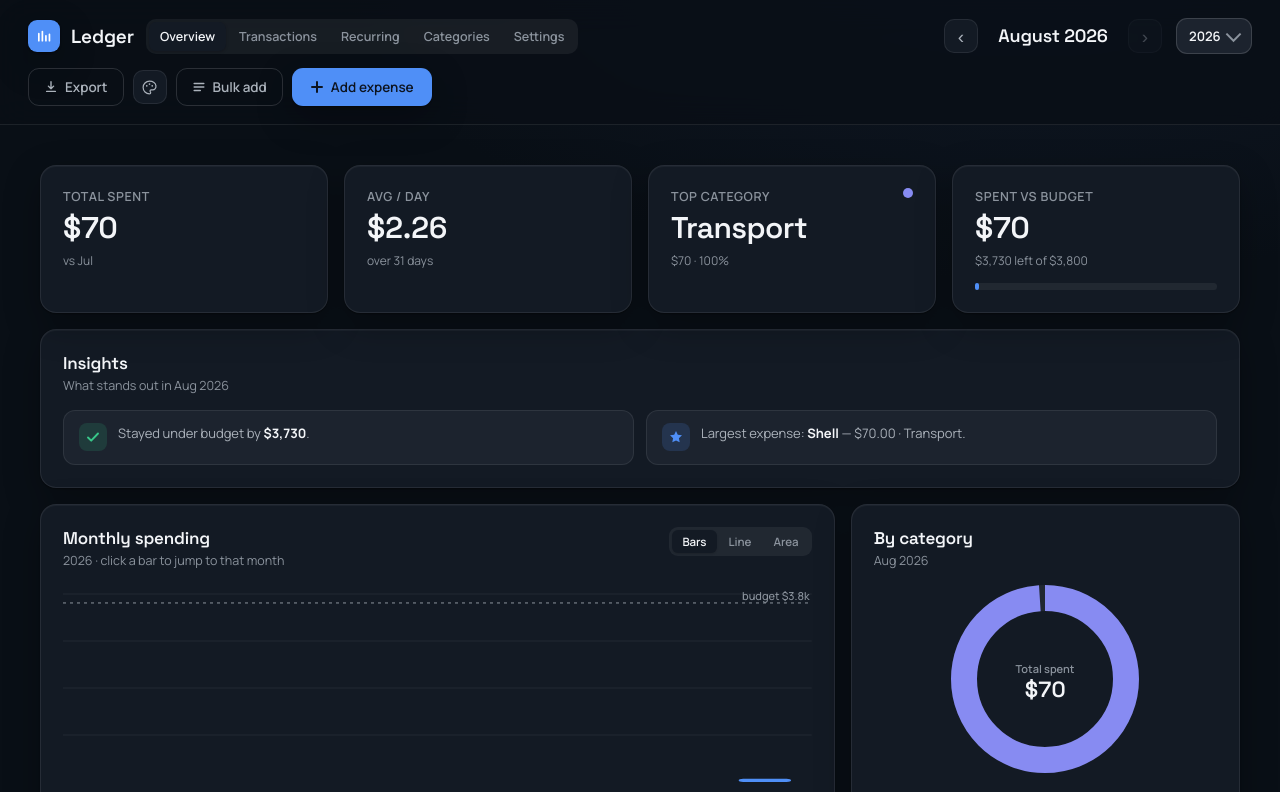
Test: App — smoke + parity › prefills category, sub-category and type from merchant memory
The width and height of the screenshot is (1280, 792).
Click the button with class "add-btn" at (362, 87), box [292, 68, 432, 106]
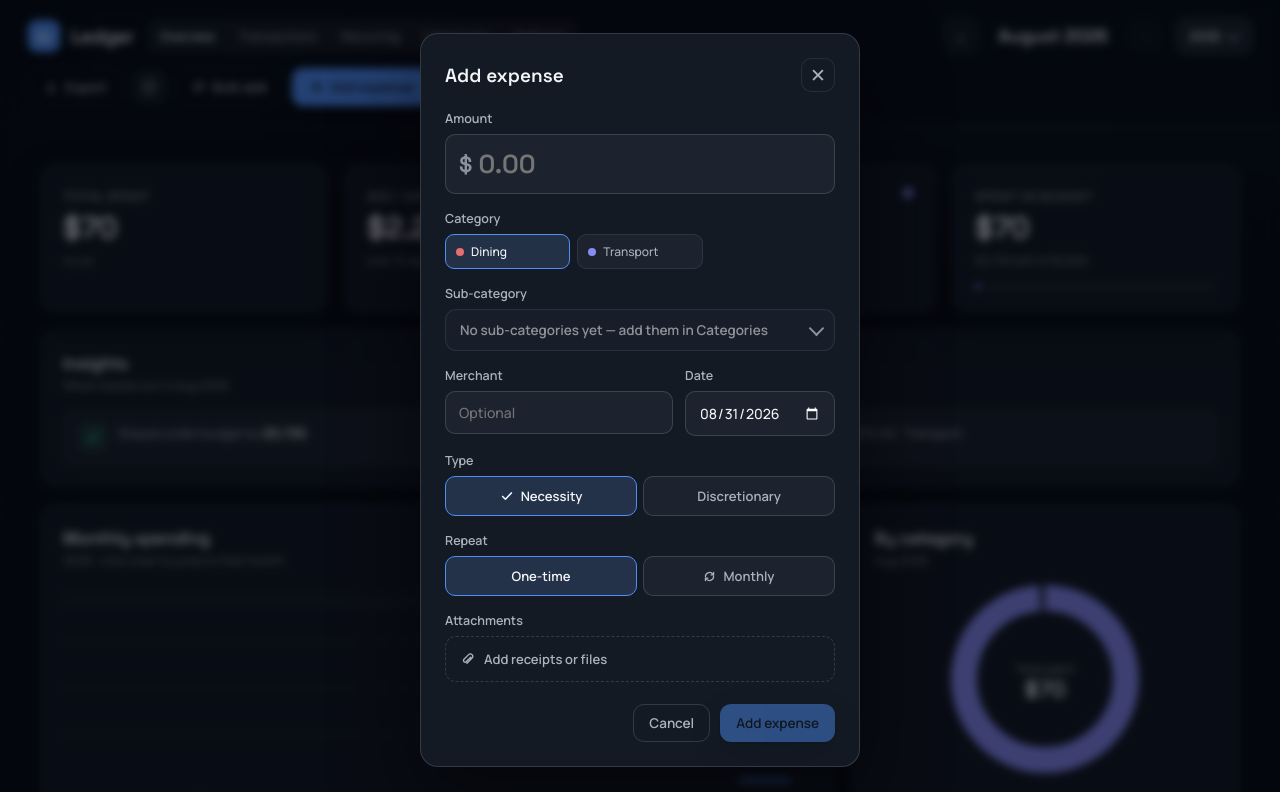
typing a known merchant flips category to Transport and selects the Petrol sub
Type "Shell" into the field with placeholder "Optional" at (559, 412), box [445, 391, 673, 434]
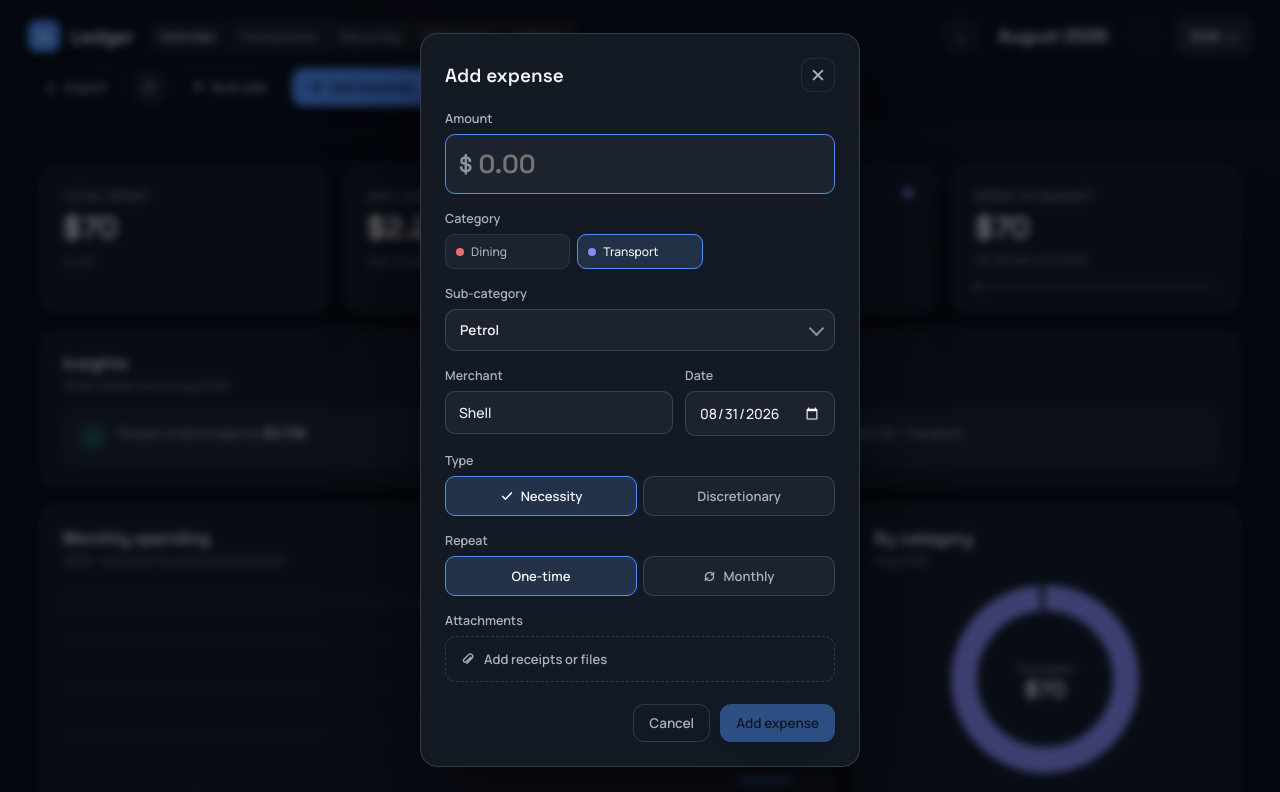
Result: the dropdown labelled "Sub-category" shows "Petrol" at [445, 309, 835, 351]
